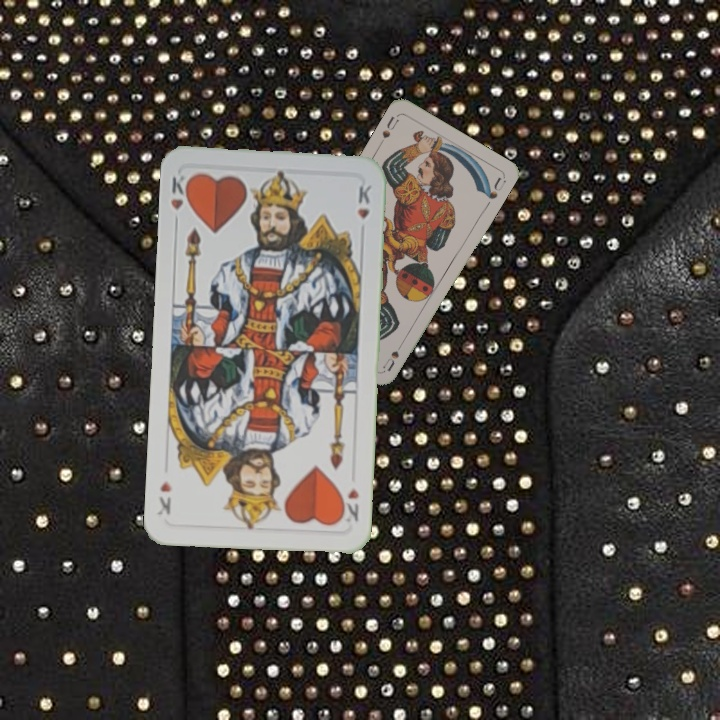HK: (166, 170, 194, 229), (336, 484, 362, 524)
SU: (379, 334, 408, 373), (377, 112, 401, 148)
